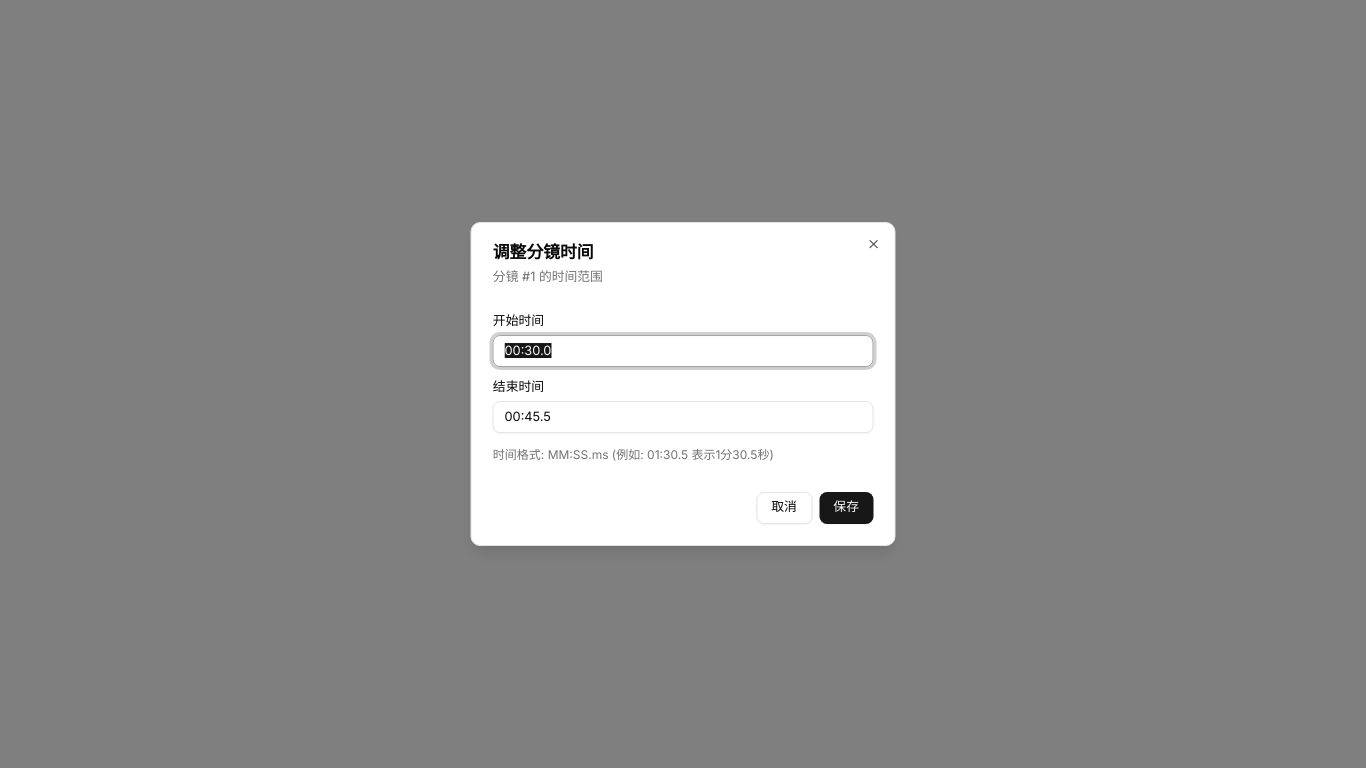
TimeAdjustDialog › should show validation error for invalid time format
The image size is (1366, 768).
Replace the text in the field labelled "开始时间" with "invalid" at (683,351), box top-left (493, 335), bottom-right (873, 367)
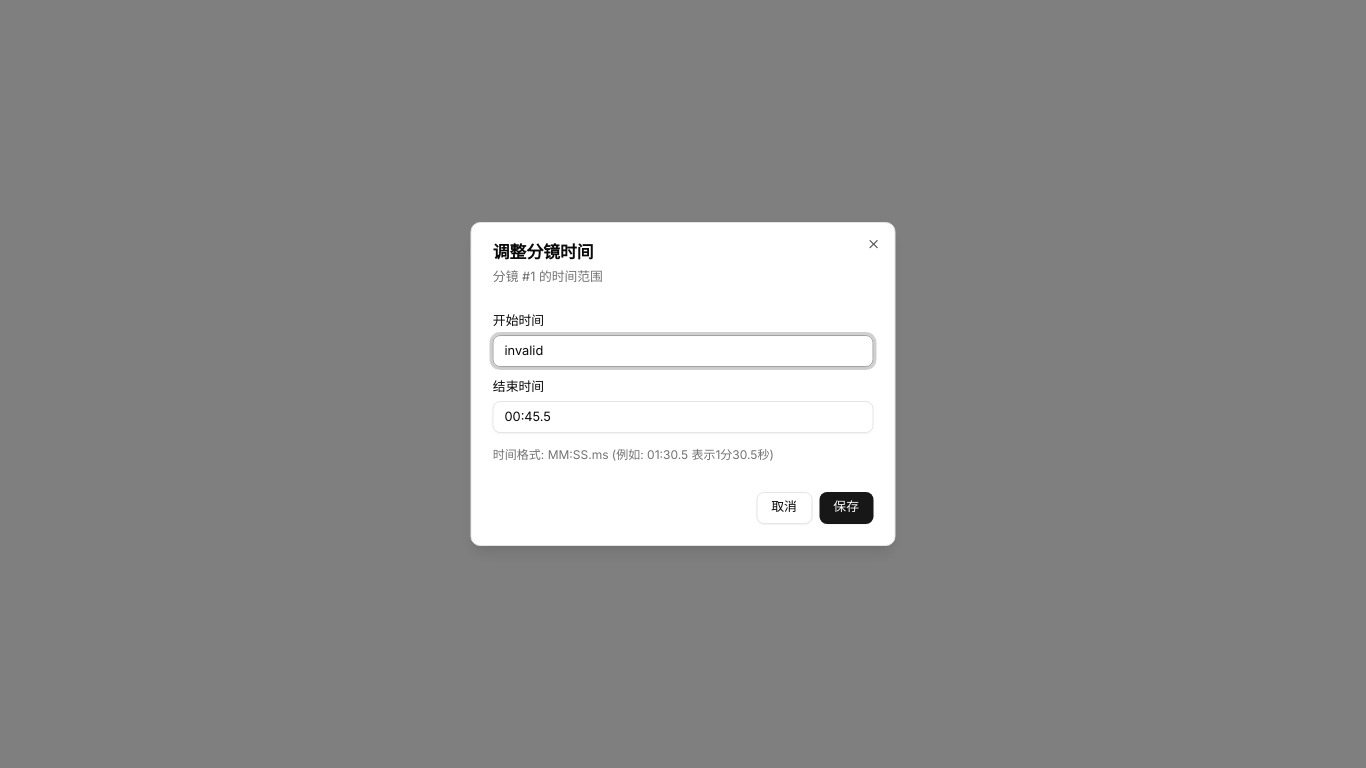
Click the button "保存".
click(846, 508)  # box top-left (819, 492), bottom-right (873, 524)
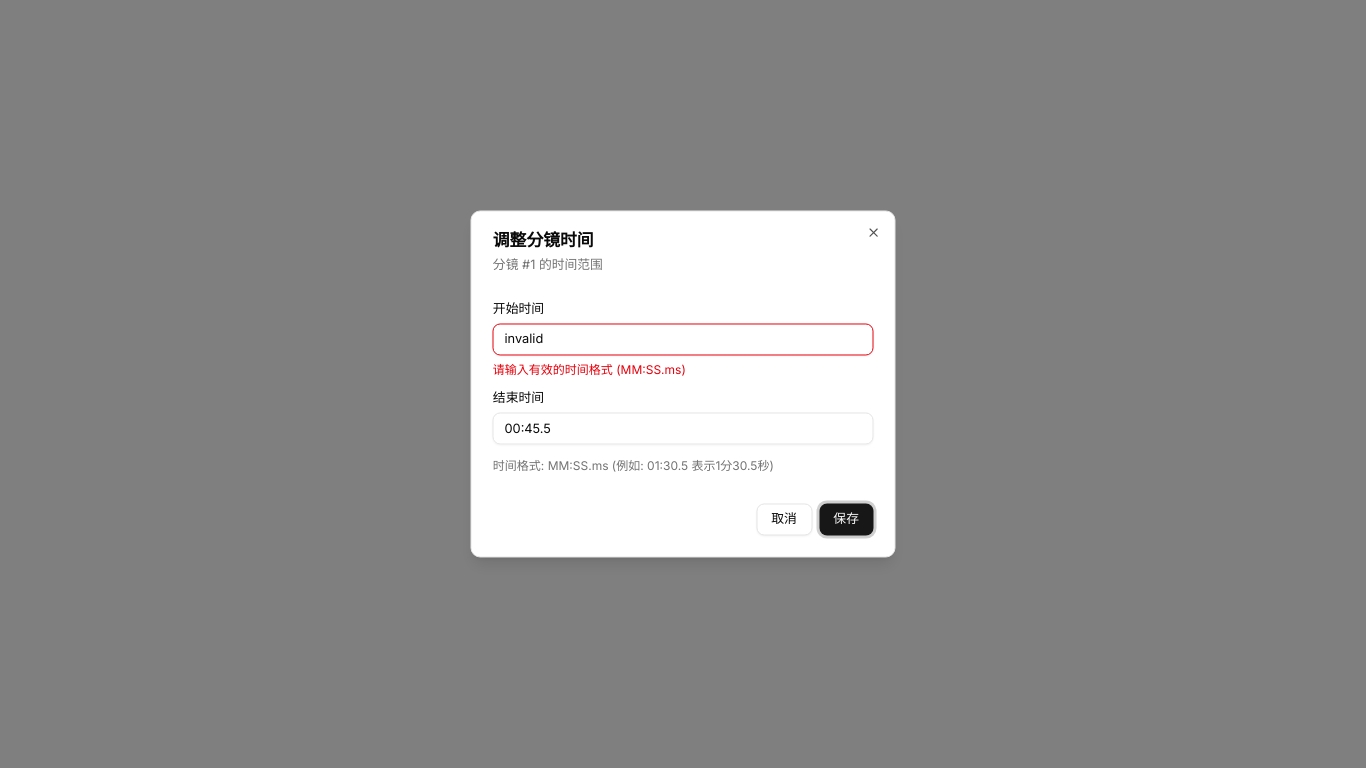
Expected: the text "请输入有效的时间格式 (MM:SS.ms)" is shown, top-left (493, 362), bottom-right (686, 377)
